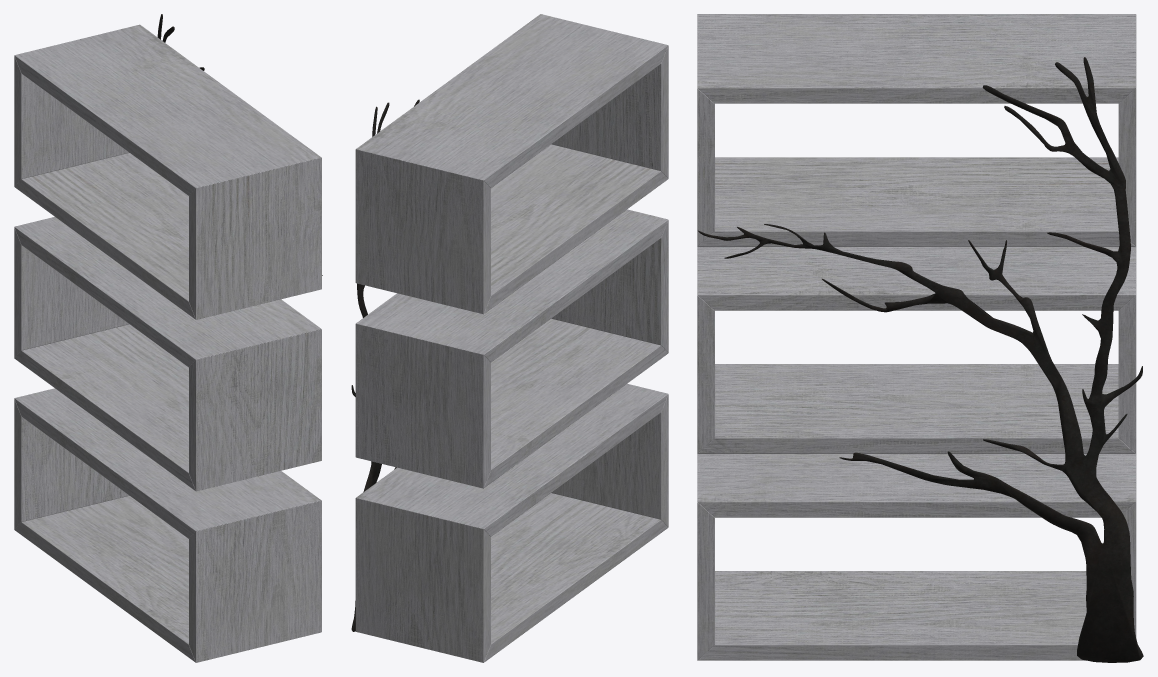
The model's file is book_shelf.glb.
The picture shows the model from 3 angles, left to right: view 1: azimuth 30°, elevation 25°; view 2: azimuth 150°, elevation 25°; view 3: azimuth 270°, elevation 25°; orthographic projection. The views are drawn at different scales.
Visible parts, largest first — view 1: shelf; view 2: shelf; view 3: shelf.
Part boxes in pixels (x1,y1,x2,y2): shelf: (14,14,322,662); shelf: (351,14,668,662); shelf: (697,14,1143,662).
Bounding box in the file's own units: 0.4036 × 1.52 × 1.02.
Materials: 2 (2 with a texture image).
